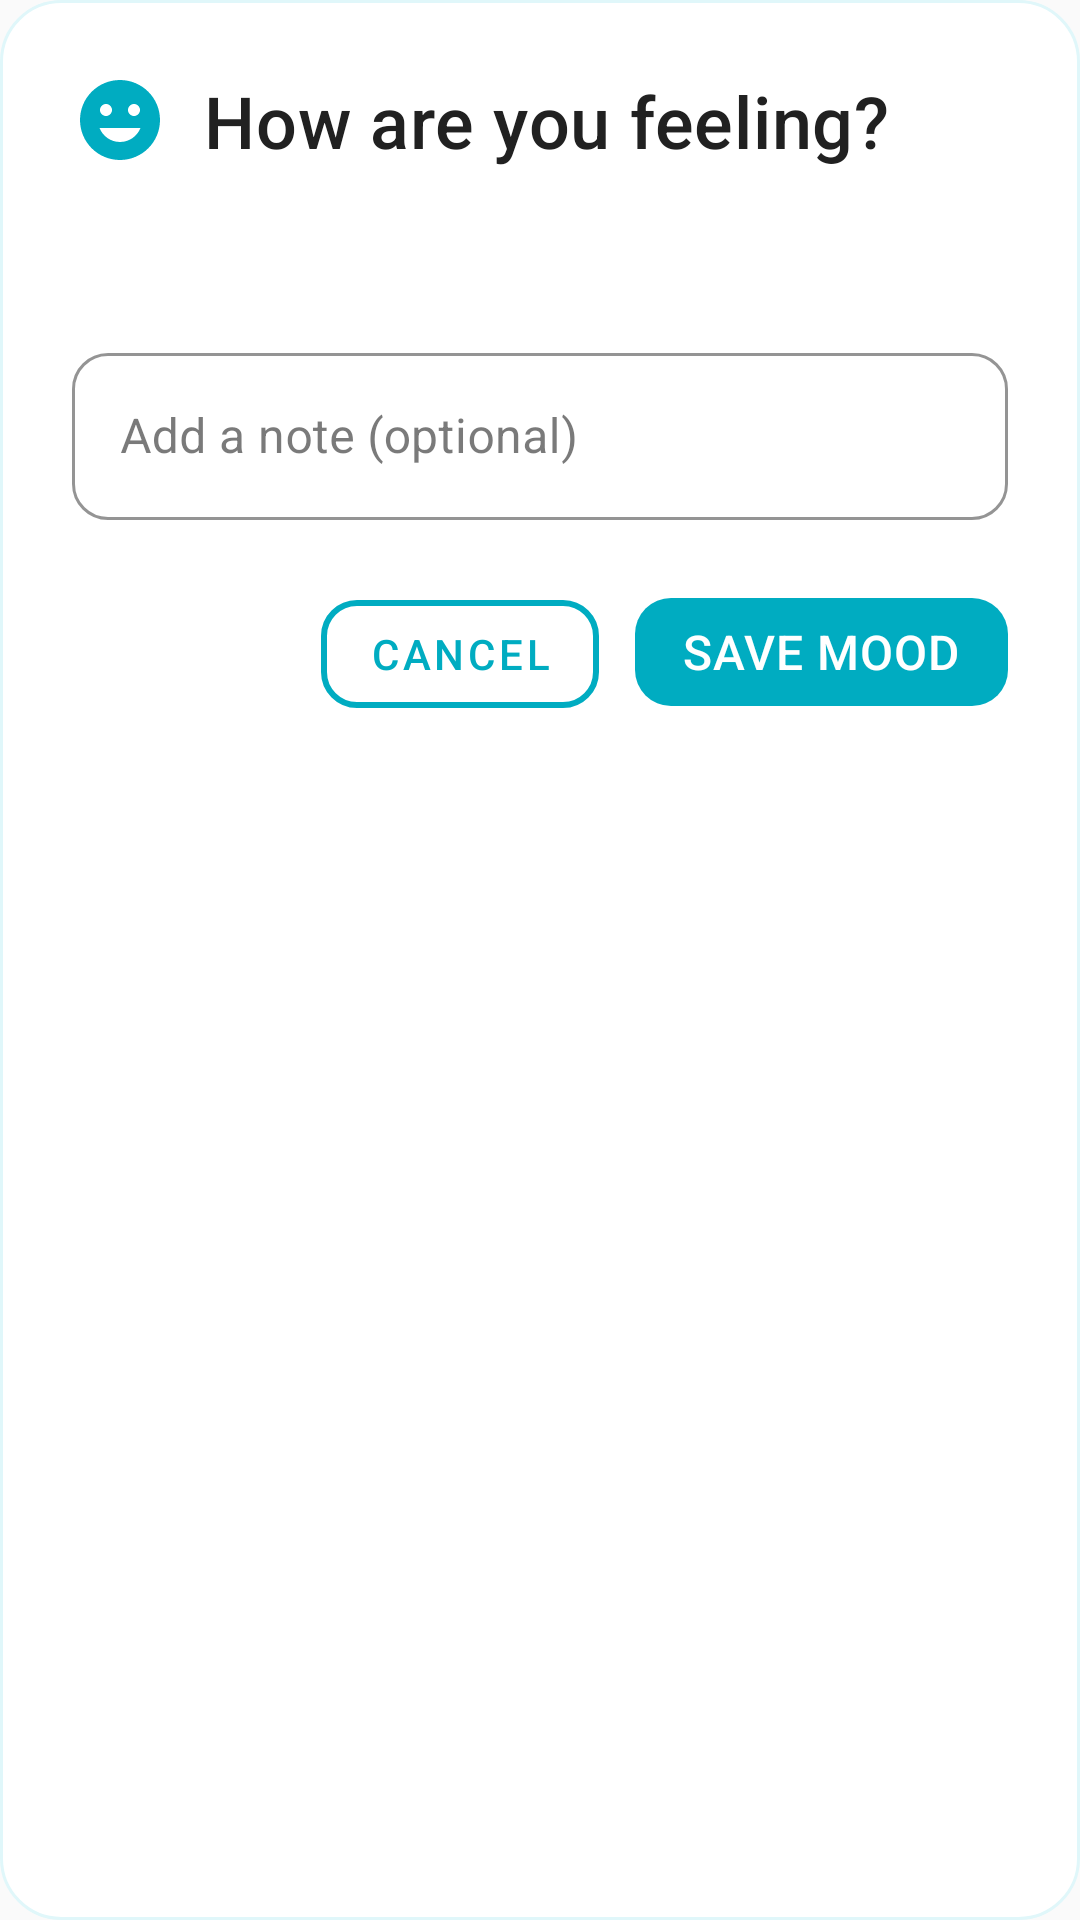

Where to tap for icons on this 1080 × 1920 app screen, as point (x, y):
mood: point (120, 120)
